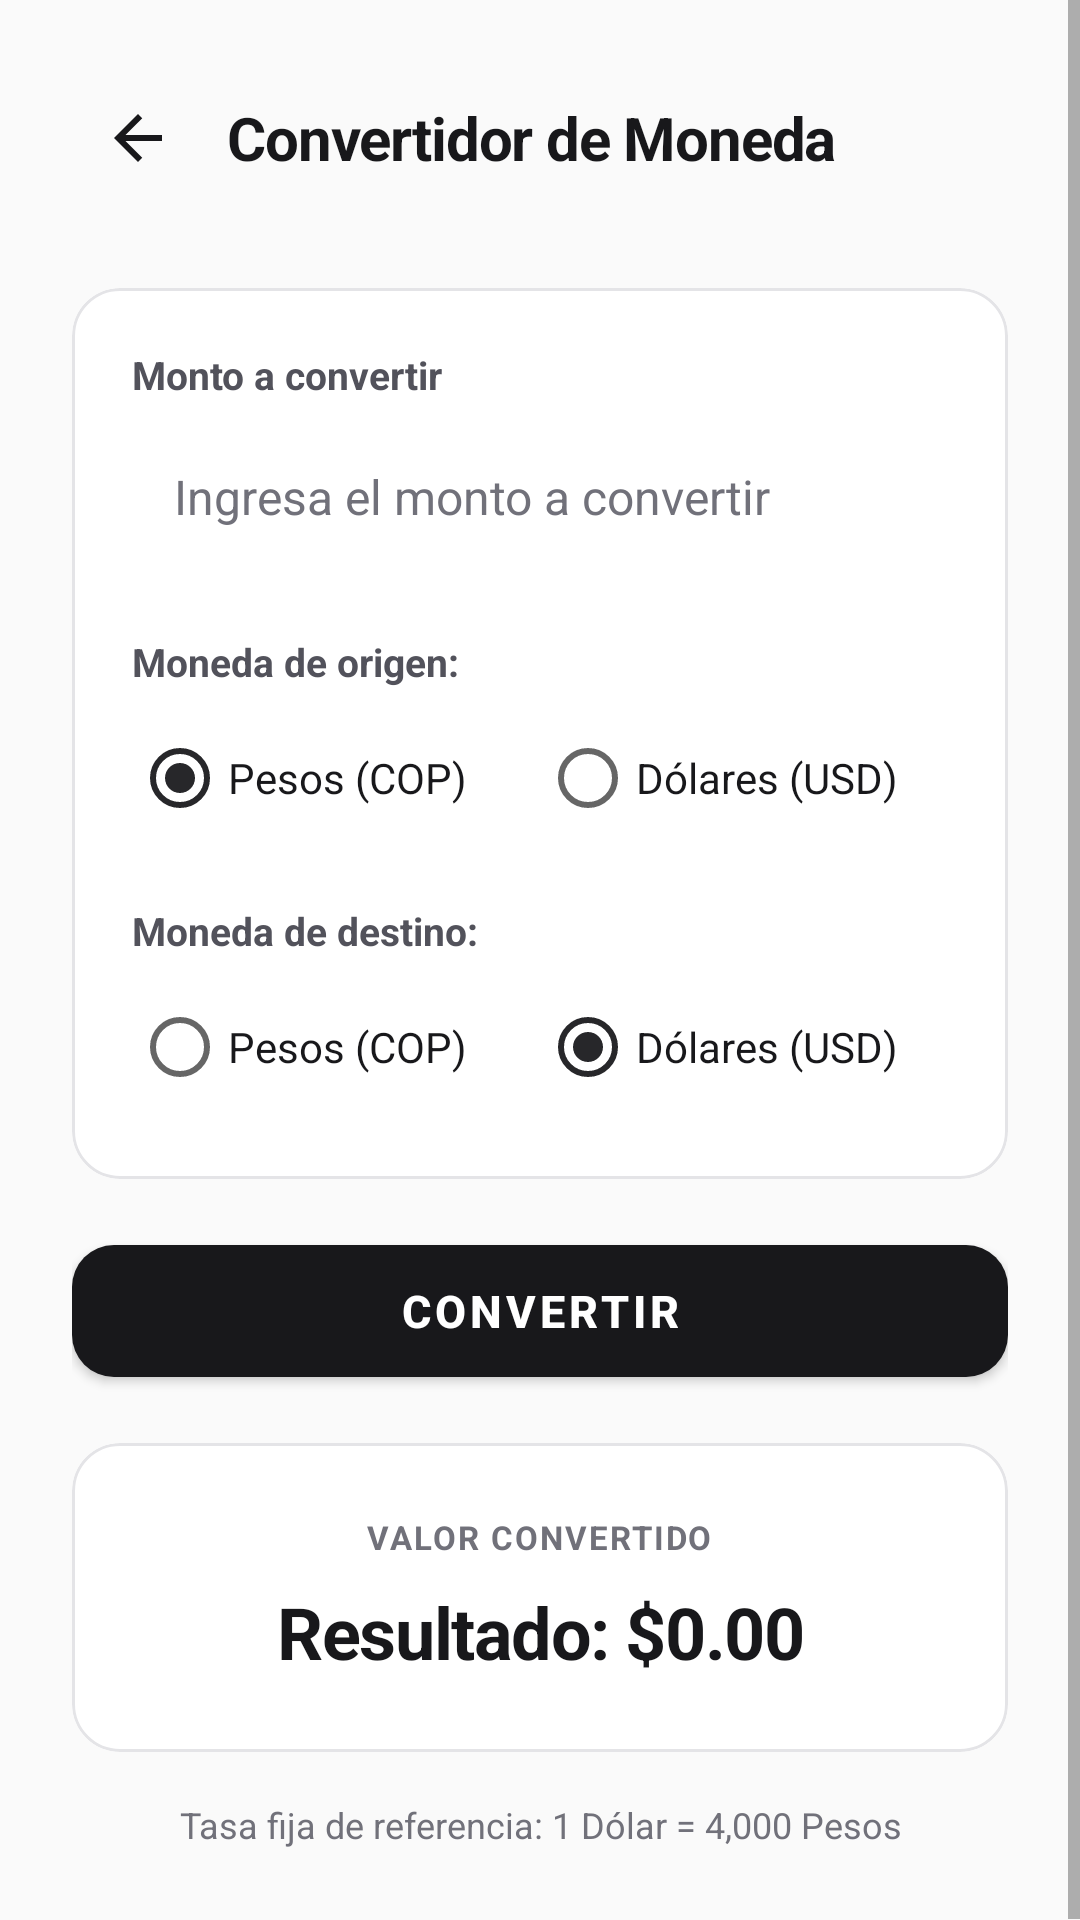

Named icons in this screenshot (1080 × 1920) and their centers, (x=x, y=y):
Volver: (x=138, y=138)
